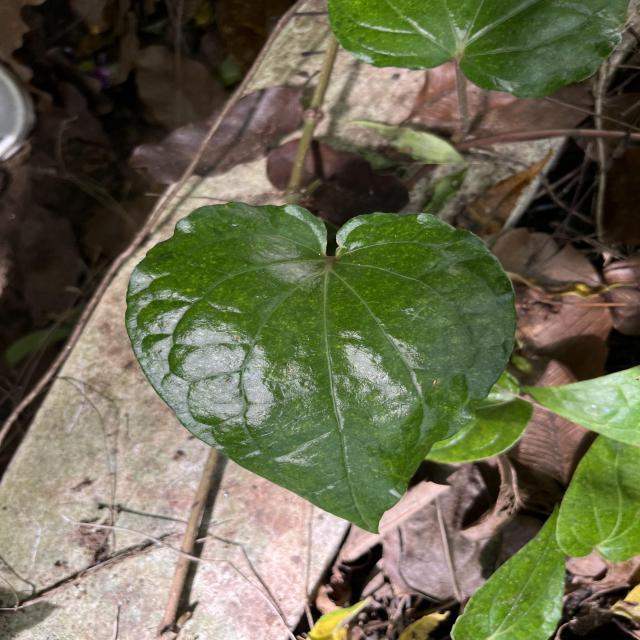Piper betle: (119, 197, 526, 540)
